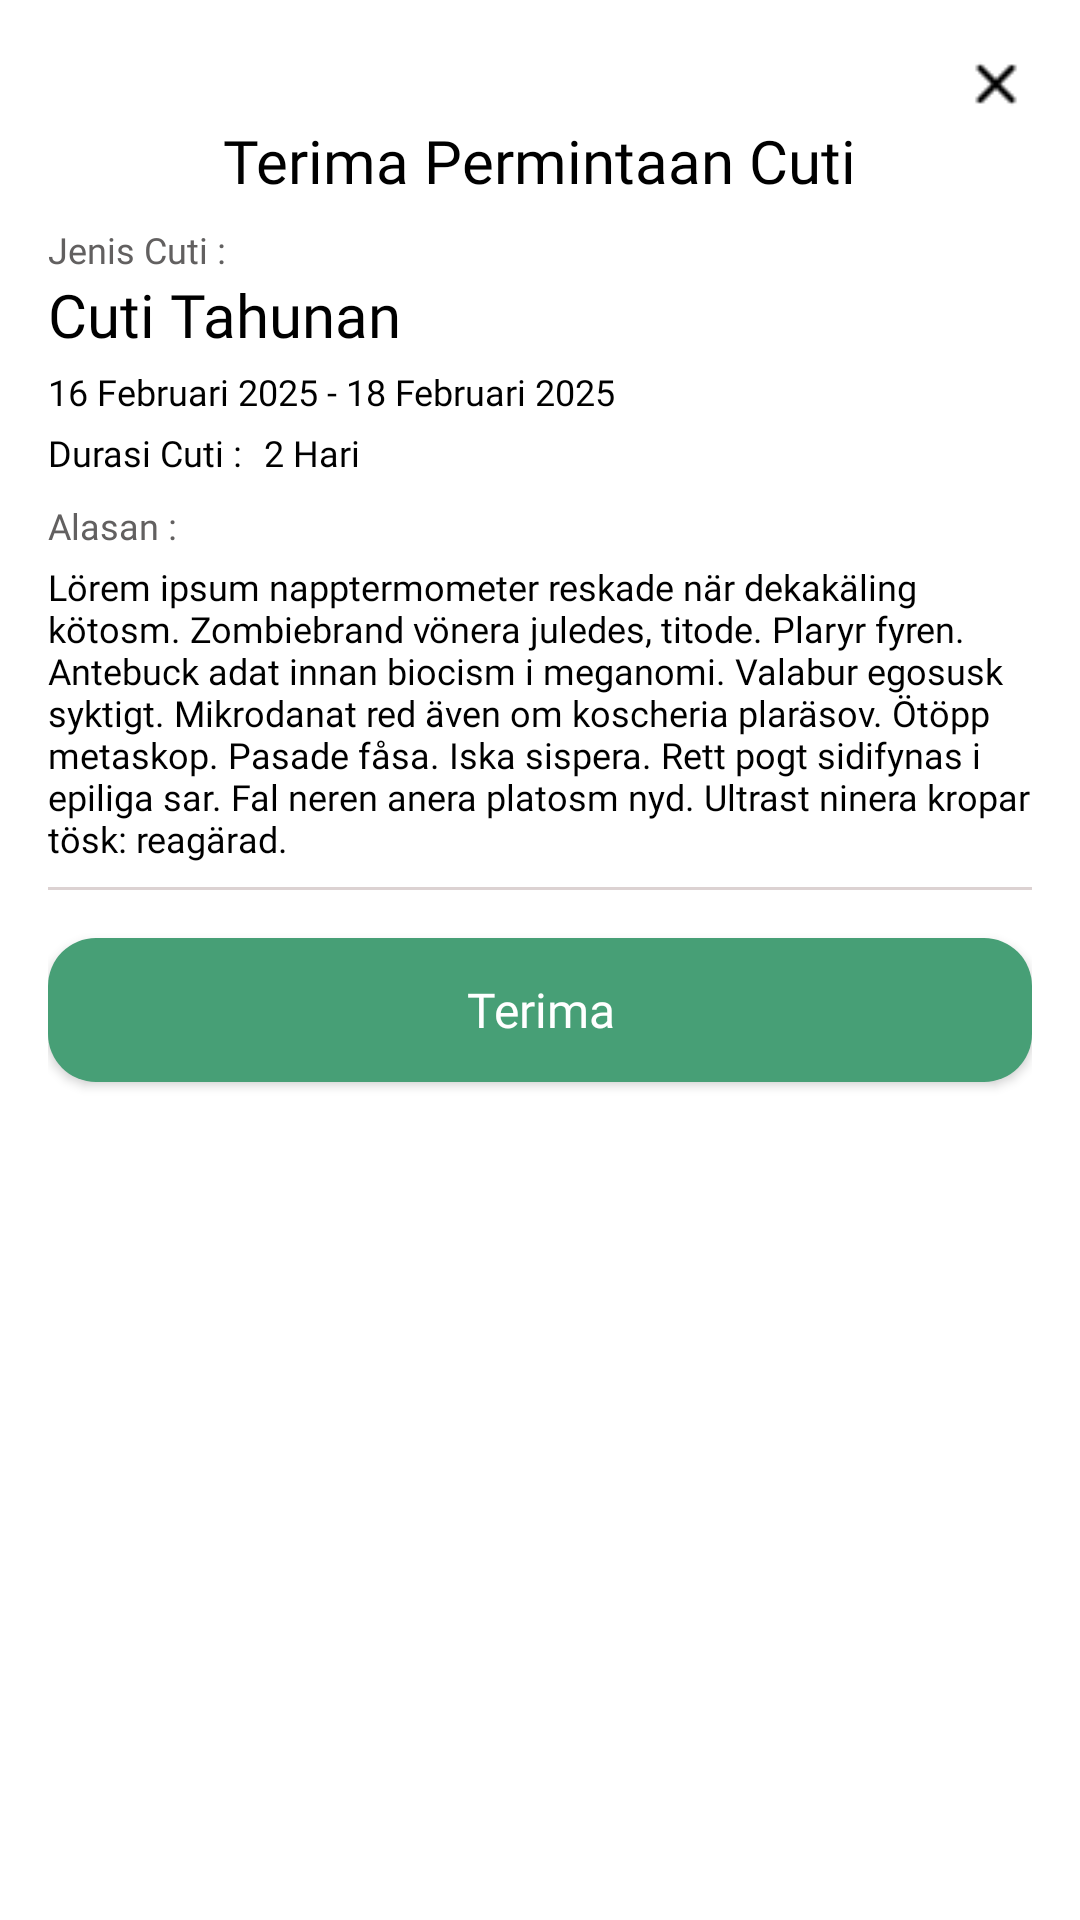

Icon bounding boxes for this 1080×1920 phone screenshot, format {"x1": x1, "y1": y1, "x2": x2, "y2": y2}:
close rounded: {"x1": 975, "y1": 64, "x2": 1017, "y2": 104}
